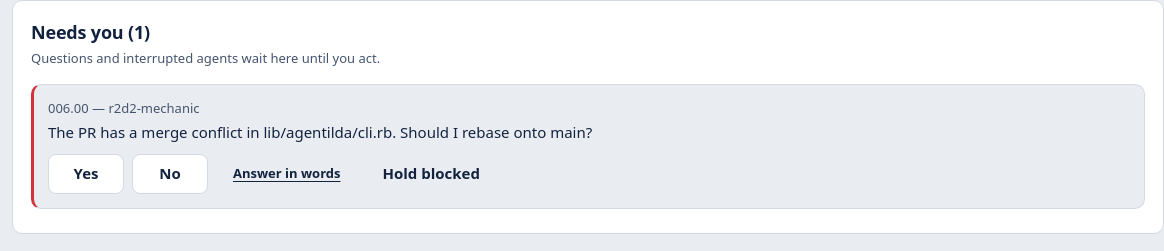
Test: NeedsYou › sends the word itself for Yes
Click the button "No".
click(170, 174)  # box [132,154,208,194]
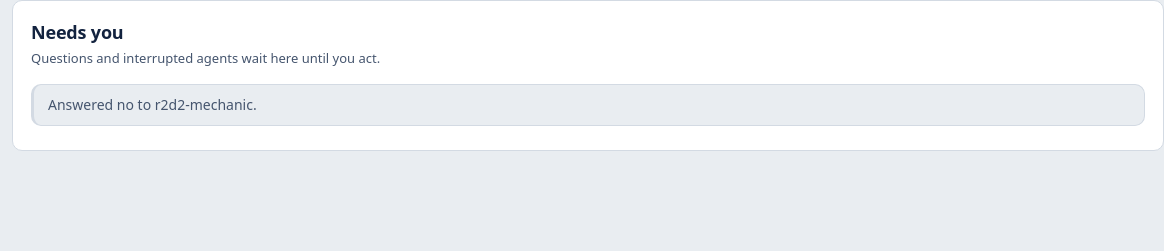
Now the text "Answered no to r2d2-mechanic." below "Needs you" is shown, box [48,95,257,114]
